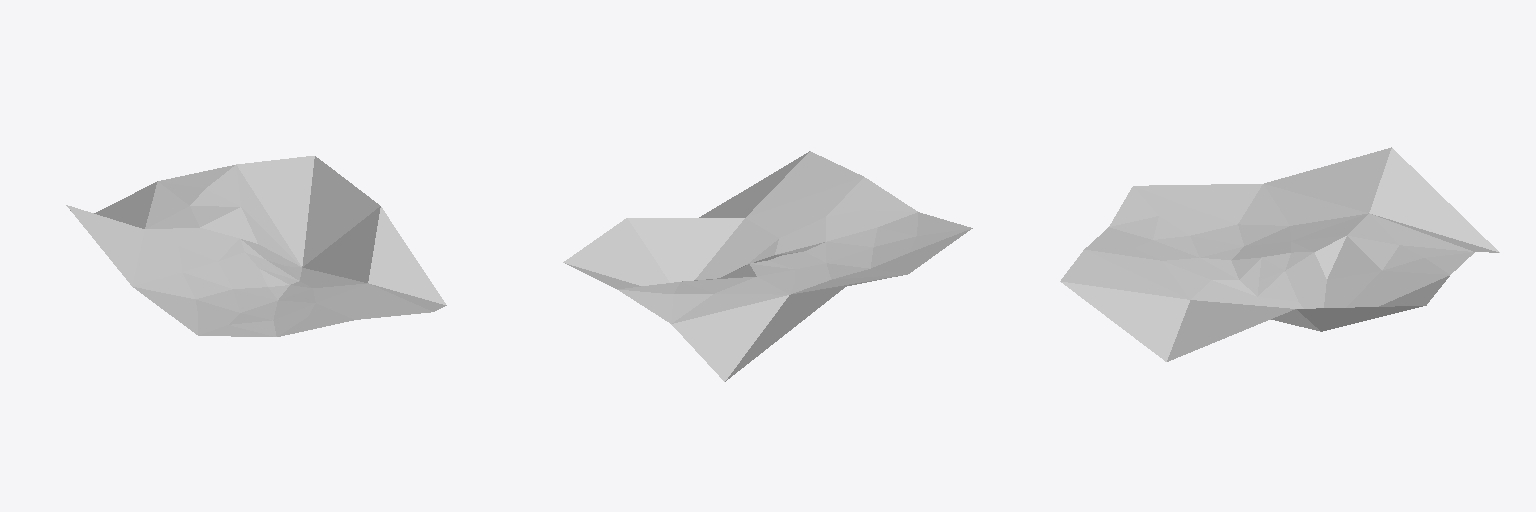
File: new_simplex2.obj
3 views of the same model, side by side, from view 1: azimuth 30°, elevation 25°; view 2: azimuth 150°, elevation 25°; view 3: azimuth 270°, elevation 25° (orthographic).
Bounding box in the file's own units: 2.32 × 0.7113 × 3.29.